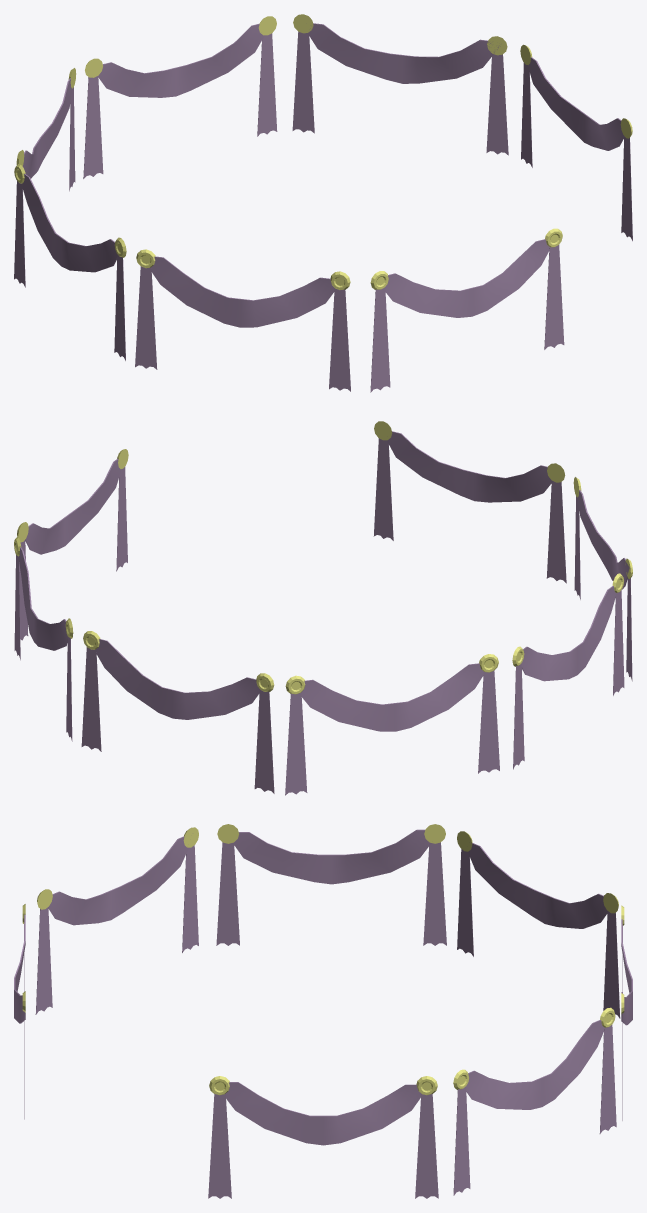
The model's file is streamercombined.fbx.
The picture shows the model from 3 angles, top to bottom: view 1: azimuth 30°, elevation 25°; view 2: azimuth 150°, elevation 25°; view 3: azimuth 270°, elevation 25°; orthographic projection. The views are drawn at different scales.
Parts seen in each view (by area): view 1: pCube44; view 2: pCube44; view 3: pCube44.
Part boxes in pixels (<box>): pCube44: <box>14,14,632,392</box>; pCube44: <box>14,421,632,795</box>; pCube44: <box>14,824,632,1198</box>.
Bounding box in the file's own units: 10.58 × 2.31 × 10.58.
